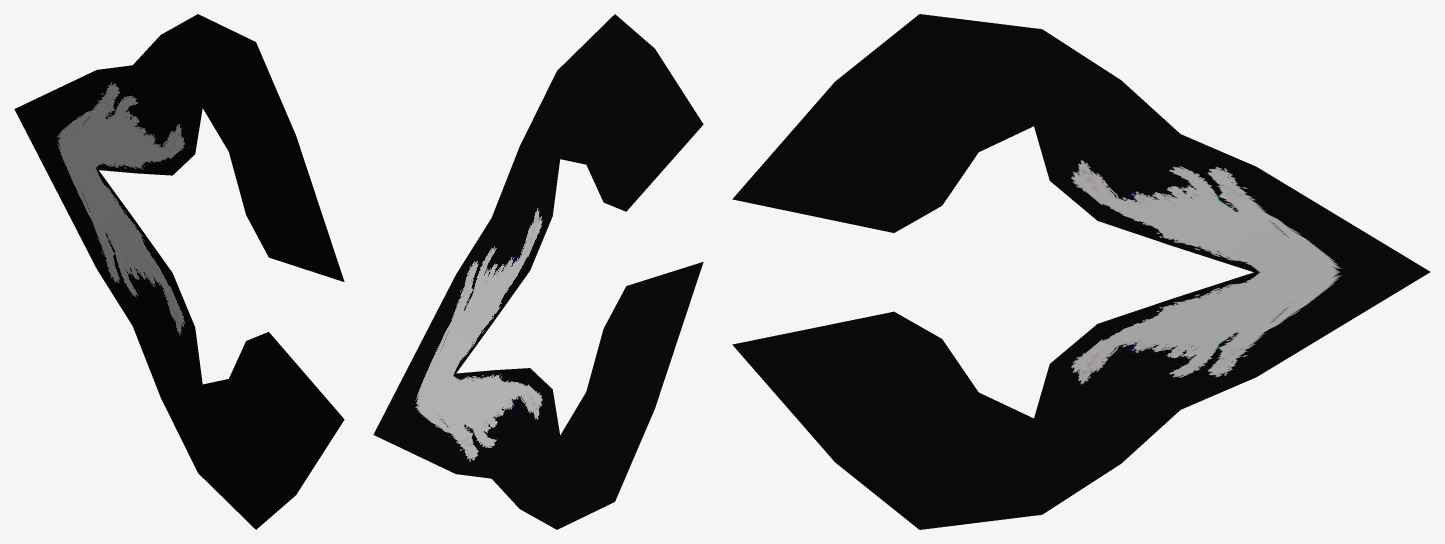
The model's file is zhufudatianshizhizhang002.fbx.
3 renders of one model, left to right at view 1: azimuth 30°, elevation 25°; view 2: azimuth 150°, elevation 25°; view 3: azimuth 270°, elevation 25°, orthographic. The views are drawn at different scales.
Parts seen in each view (by area): view 1: zhufudatianshizhizhang002; view 2: zhufudatianshizhizhang002; view 3: zhufudatianshizhizhang002.
Part boxes in pixels (left/top/right/bottom): zhufudatianshizhizhang002: left=14, top=14, right=344, bottom=529; zhufudatianshizhizhang002: left=373, top=14, right=703, bottom=529; zhufudatianshizhizhang002: left=732, top=14, right=1430, bottom=529.
Bounding box in the file's own units: 0.2306 × 145 × 178.
